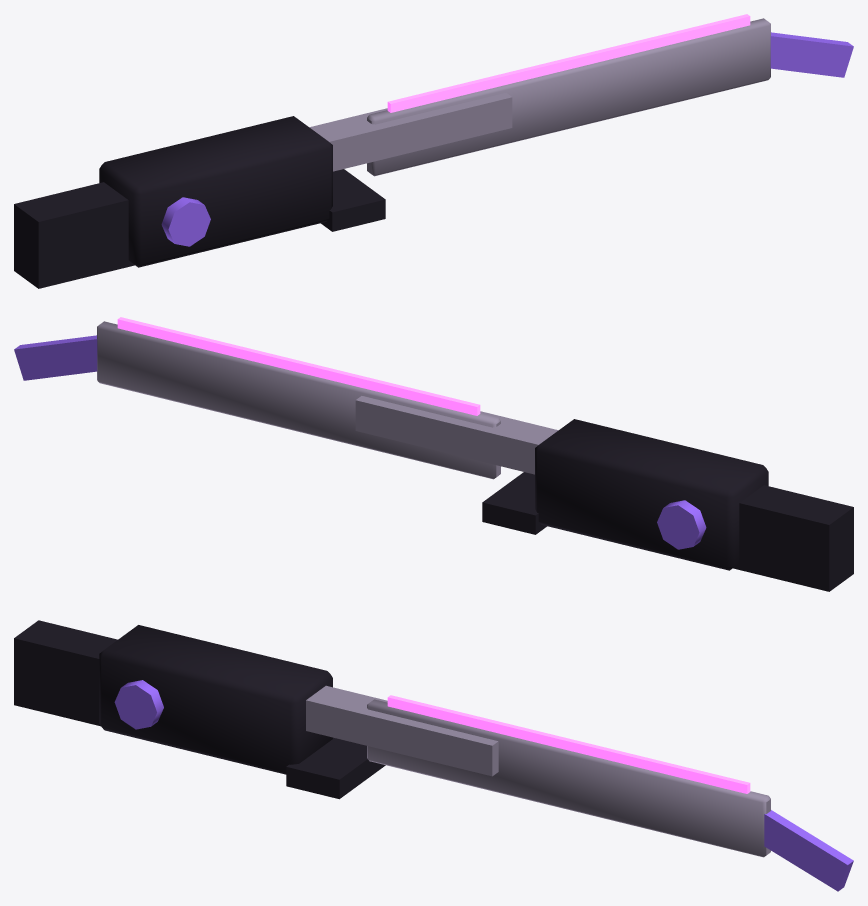
The model's file is asesino_cuchilla_d.glb.
3 views of the same model, one above another, from view 1: azimuth 30°, elevation 25°; view 2: azimuth 150°, elevation 25°; view 3: azimuth 330°, elevation 25° (orthographic).
Parts seen in each view (by area): view 1: asesino_cuchilla_d; view 2: asesino_cuchilla_d; view 3: asesino_cuchilla_d.
Part boxes in pixels (x1,y1,x2,y2): asesino_cuchilla_d: (14, 14, 853, 288); asesino_cuchilla_d: (14, 317, 853, 591); asesino_cuchilla_d: (14, 620, 853, 891).
Bounding box in the file's own units: 0.6192 × 0.0665 × 0.07.
